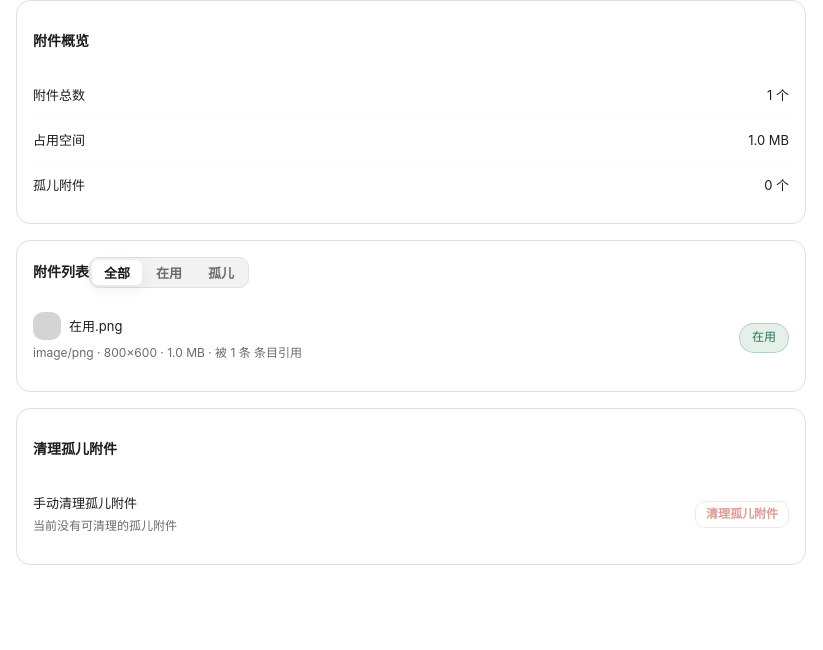
三种空态 › ③ 筛选后为空：与 ① 的文案不同，并给回到「全部」的出口
Expected: the heading "附件概览" is shown, [33, 17, 133, 61]
Click the button "孤儿" at (221, 273), box [196, 260, 246, 285]
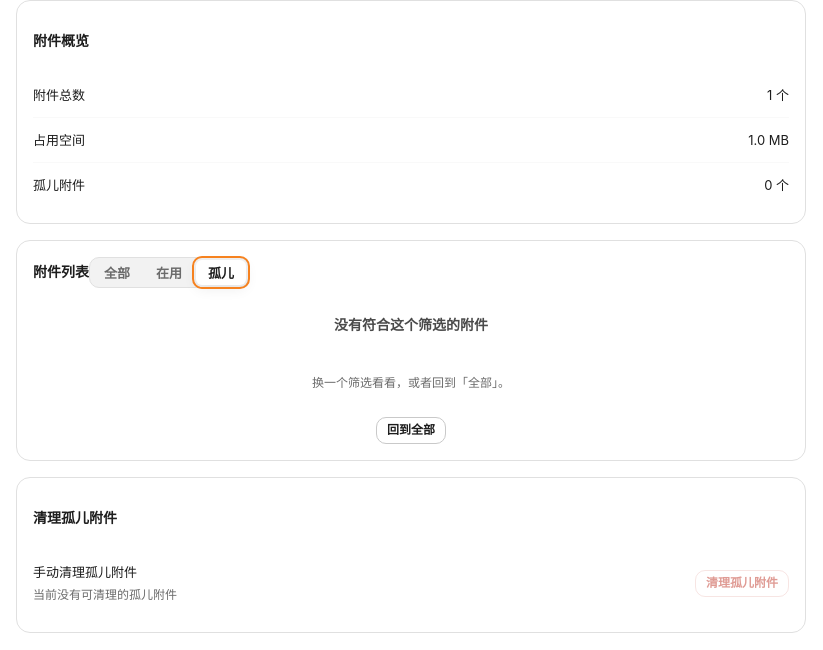
Expected: the text "没有符合这个筛选的附件" is shown, [334, 314, 488, 336]
Expected: the text "在用.png" is gone
Click the button "回到全部" at (411, 430), box [376, 417, 446, 444]
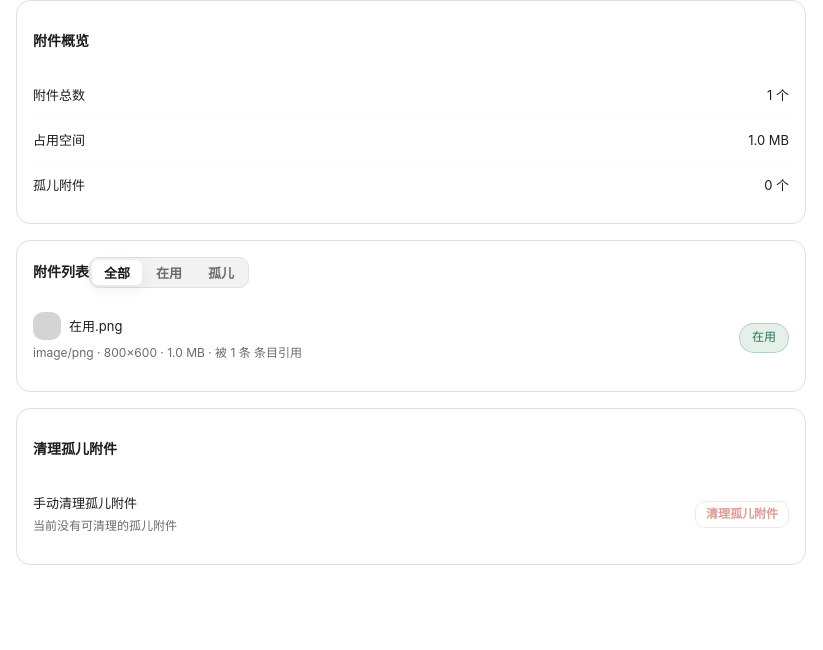
Expected: the text "在用.png" is shown, [69, 316, 122, 336]
